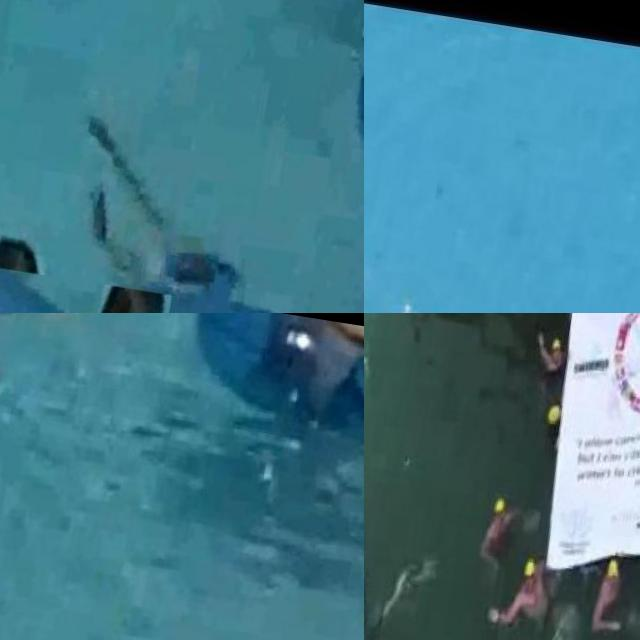drowning: (46, 94, 288, 304), (528, 329, 553, 362)
swimming: (0, 265, 173, 313), (473, 486, 523, 574), (499, 555, 549, 640), (587, 557, 635, 640), (532, 326, 566, 378)
